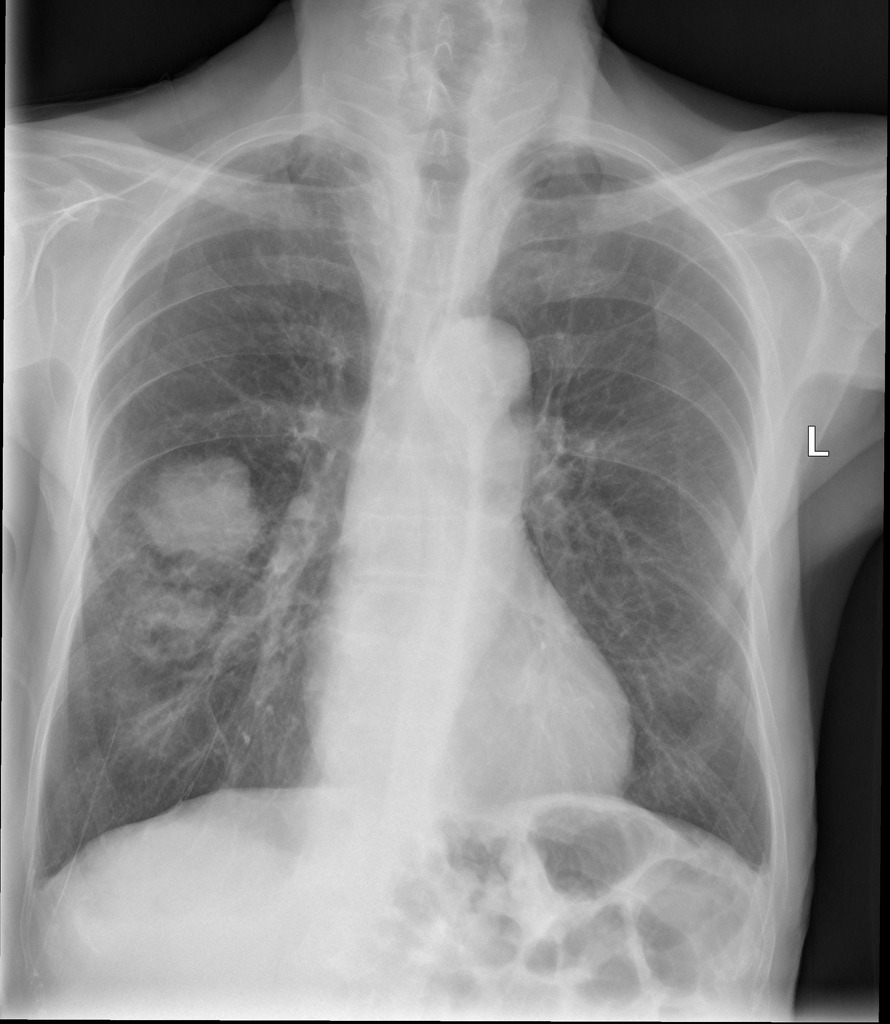cancer: (105, 189, 328, 848), (487, 167, 734, 621)
